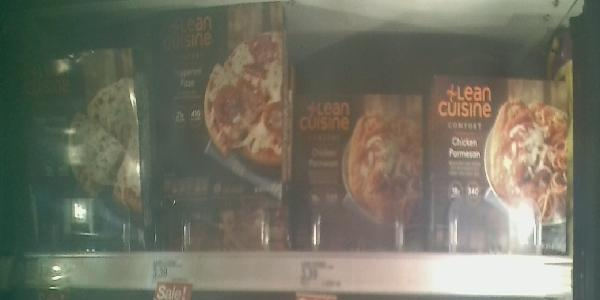pizza1: (150, 4, 291, 242), (10, 42, 152, 245), (433, 72, 568, 255), (291, 90, 428, 255)
